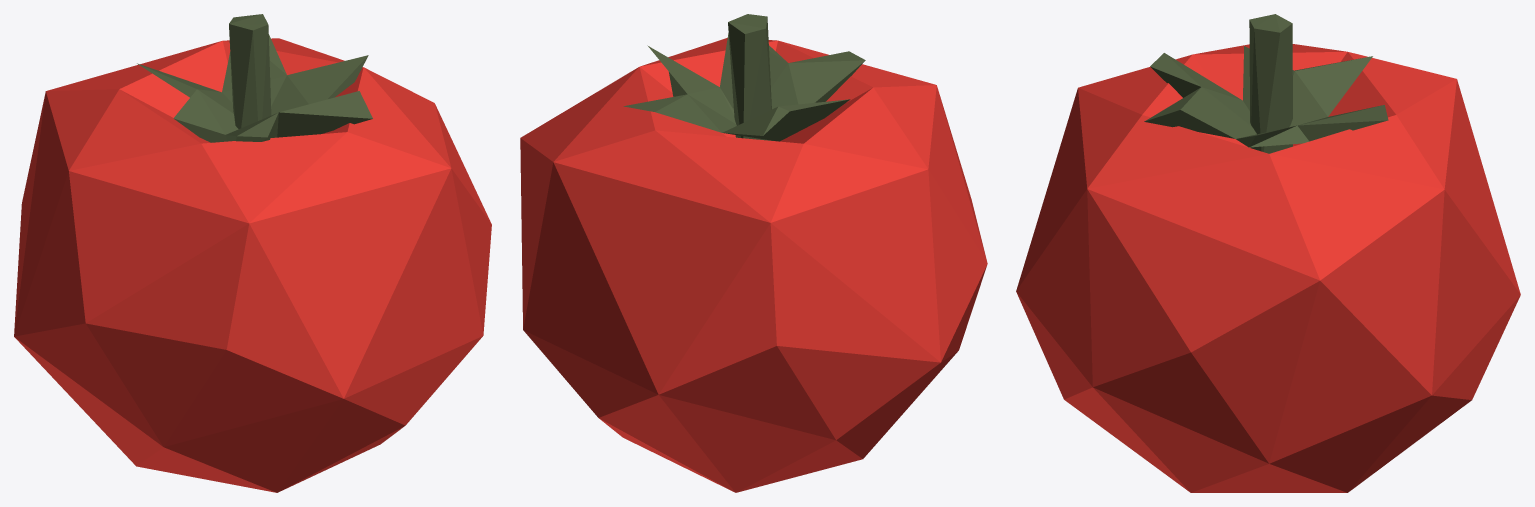
File: SM_Food_Tomato_01.fbx
3 views of the same model, side by side, from view 1: azimuth 30°, elevation 25°; view 2: azimuth 150°, elevation 25°; view 3: azimuth 270°, elevation 25° (orthographic). The views are drawn at different scales.
Visible parts, largest first — view 1: SM_Food_Tomato_01; view 2: SM_Food_Tomato_01; view 3: SM_Food_Tomato_01.
Boxes of the visible parts, left/top/right/bottom form: SM_Food_Tomato_01: left=14, top=14, right=491, bottom=492; SM_Food_Tomato_01: left=520, top=14, right=987, bottom=492; SM_Food_Tomato_01: left=1016, top=14, right=1520, bottom=492.
Bounding box in the file's own units: 10.68 × 10.82 × 10.82.
